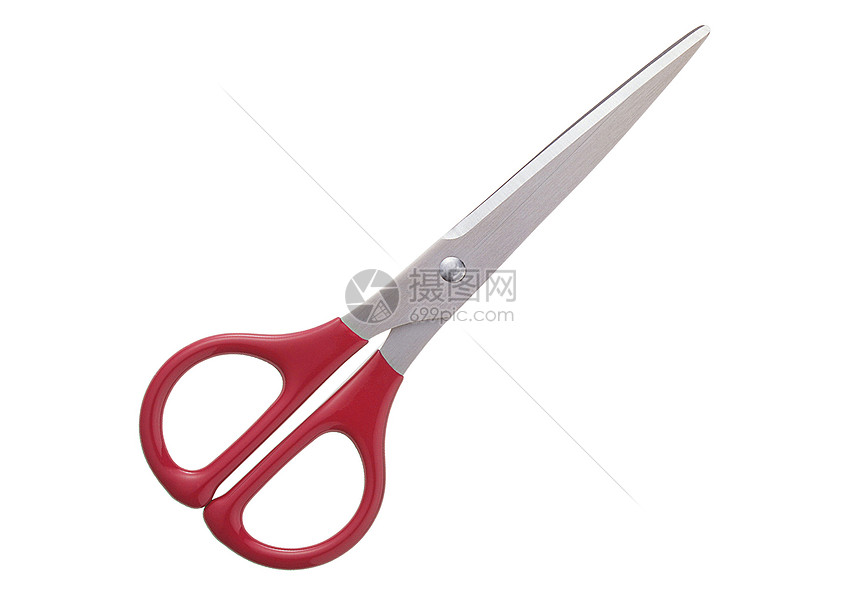scissors: (134, 23, 723, 577)
